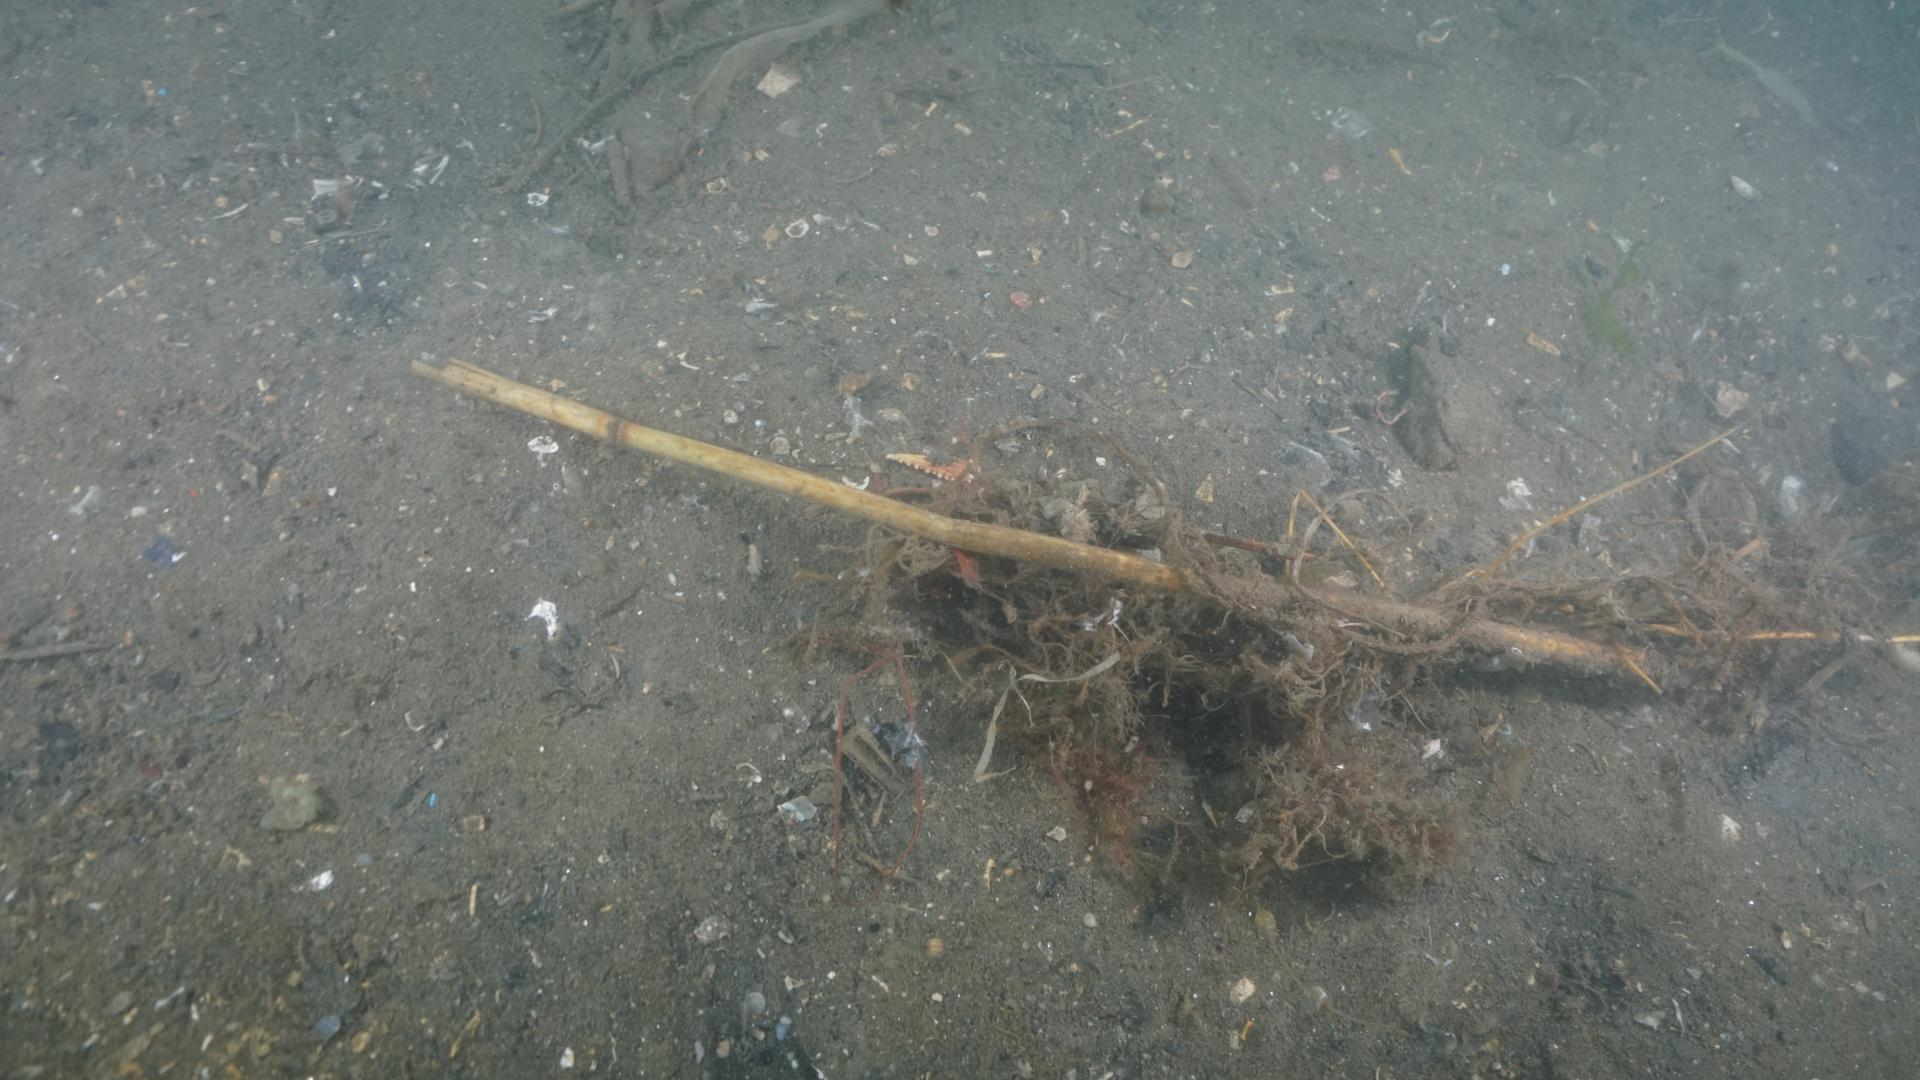wood: (404, 347, 1656, 688)
